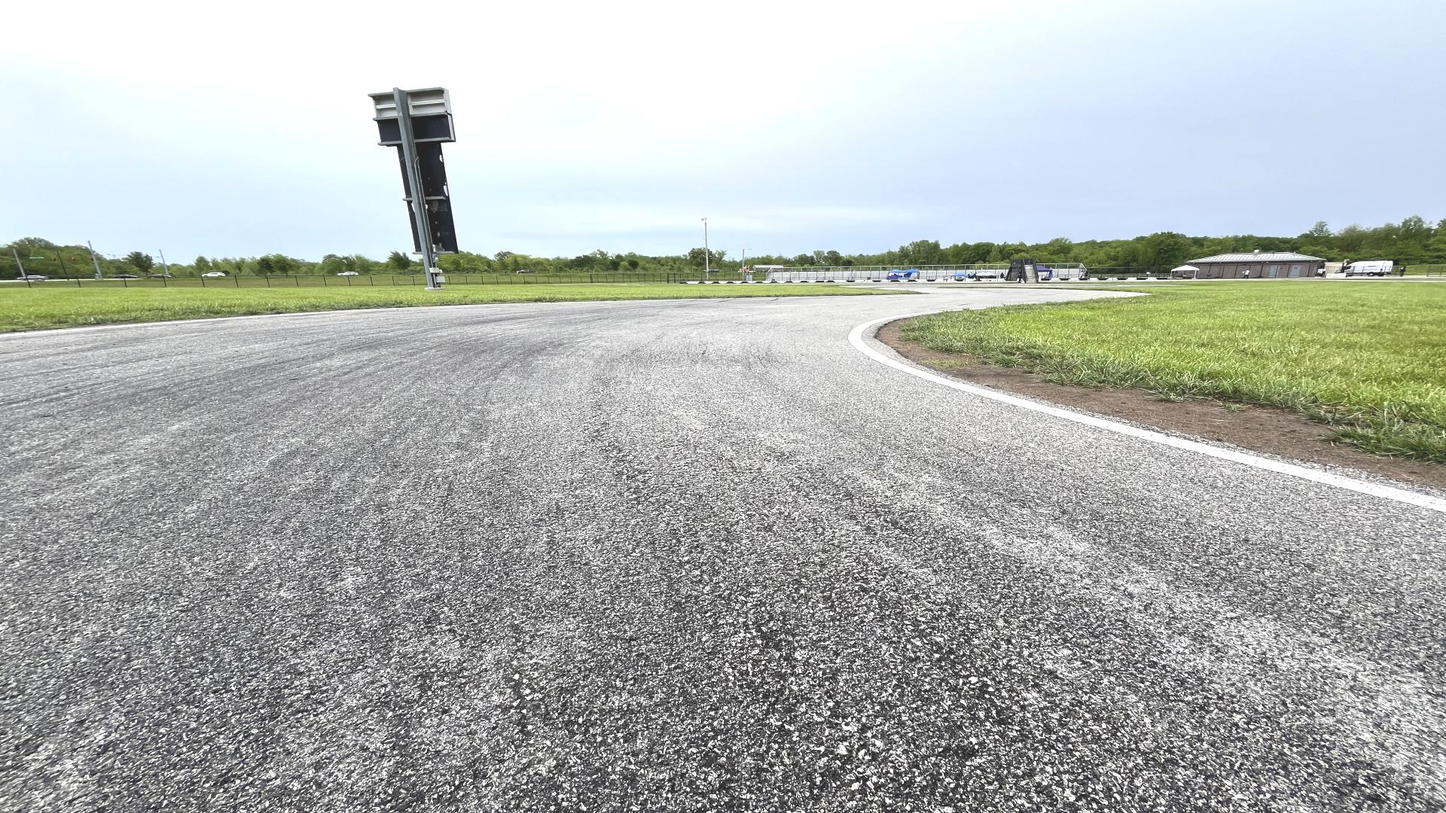white-line: (847, 307, 1445, 515), (0, 294, 918, 337)
